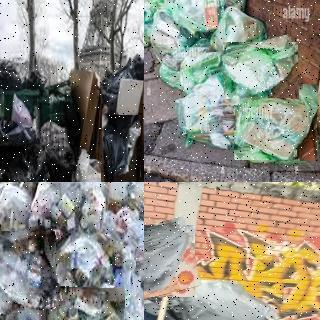Garbage: (235, 84, 318, 161), (26, 182, 111, 246), (173, 76, 246, 150), (220, 38, 301, 102), (0, 227, 59, 313), (172, 277, 283, 320), (51, 236, 116, 309), (144, 221, 198, 302), (207, 4, 269, 59), (146, 6, 198, 69), (176, 46, 235, 93), (45, 286, 124, 320), (101, 114, 140, 182), (0, 281, 52, 320), (0, 143, 48, 182), (0, 182, 36, 232), (168, 0, 221, 33), (108, 182, 144, 214), (144, 0, 164, 50), (0, 56, 23, 88)
